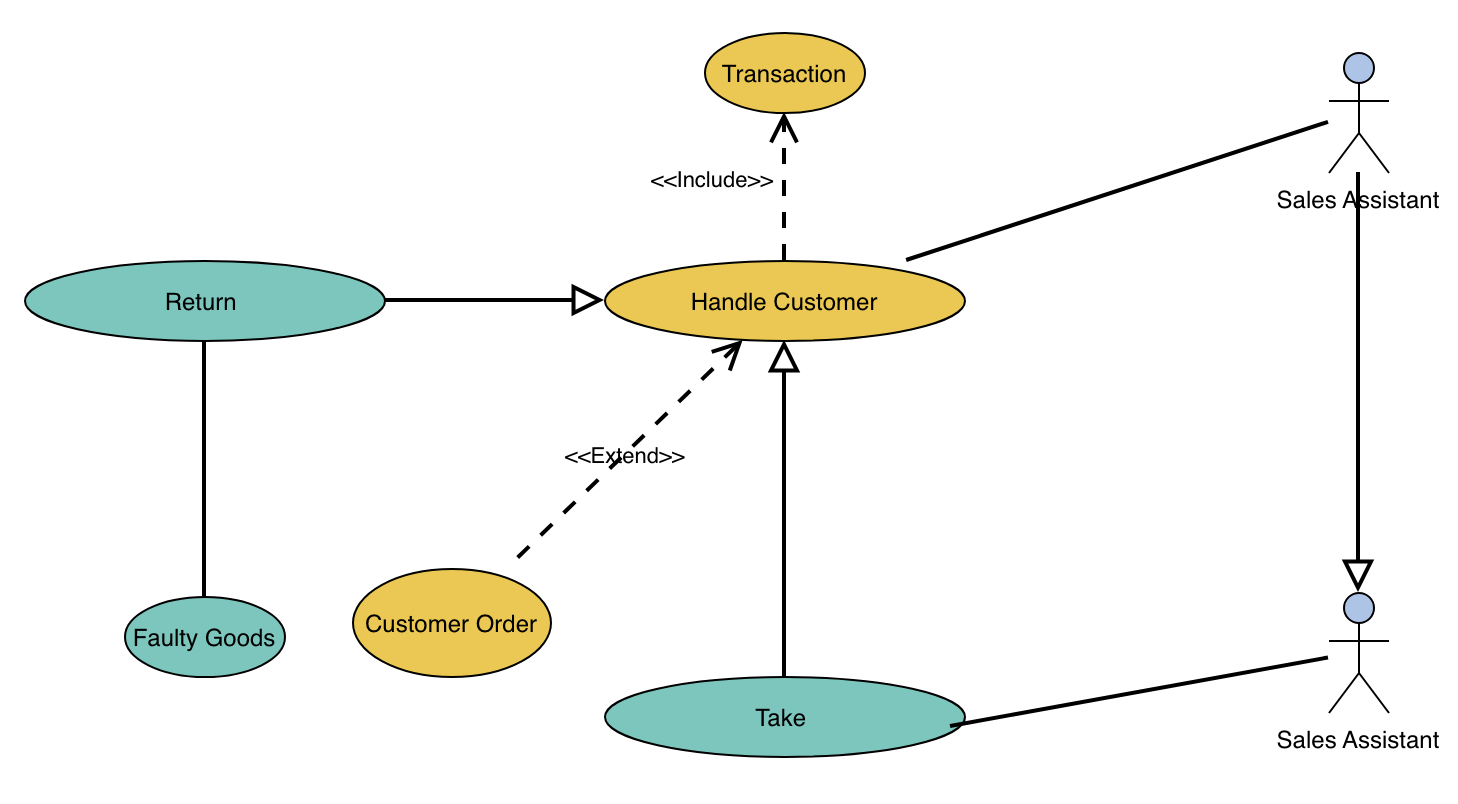actor: (1328, 591, 1397, 719), (1328, 49, 1393, 179)
association: (905, 119, 1329, 261), (517, 339, 746, 560), (966, 654, 1332, 731), (187, 343, 222, 595), (767, 114, 800, 258)
generalization: (1340, 175, 1377, 591), (763, 343, 805, 673), (389, 281, 602, 315)
text: (362, 607, 542, 642), (680, 285, 881, 315), (1270, 725, 1442, 756), (720, 55, 856, 91), (1274, 188, 1446, 214), (636, 169, 783, 199), (132, 624, 279, 654), (558, 444, 688, 468), (747, 699, 826, 737), (163, 286, 242, 317)
use_case: (24, 258, 387, 345), (604, 257, 968, 343), (602, 676, 968, 760), (348, 566, 555, 680), (124, 594, 288, 678), (702, 31, 867, 114)
